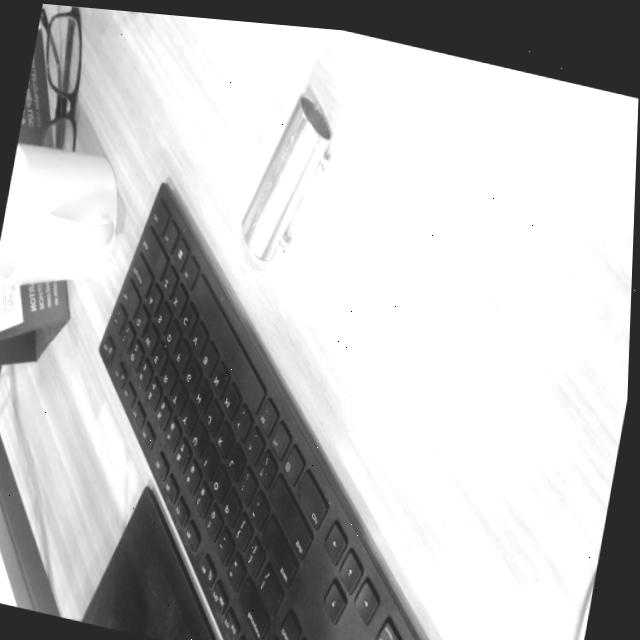Co_Lon: (230, 93, 350, 269)
